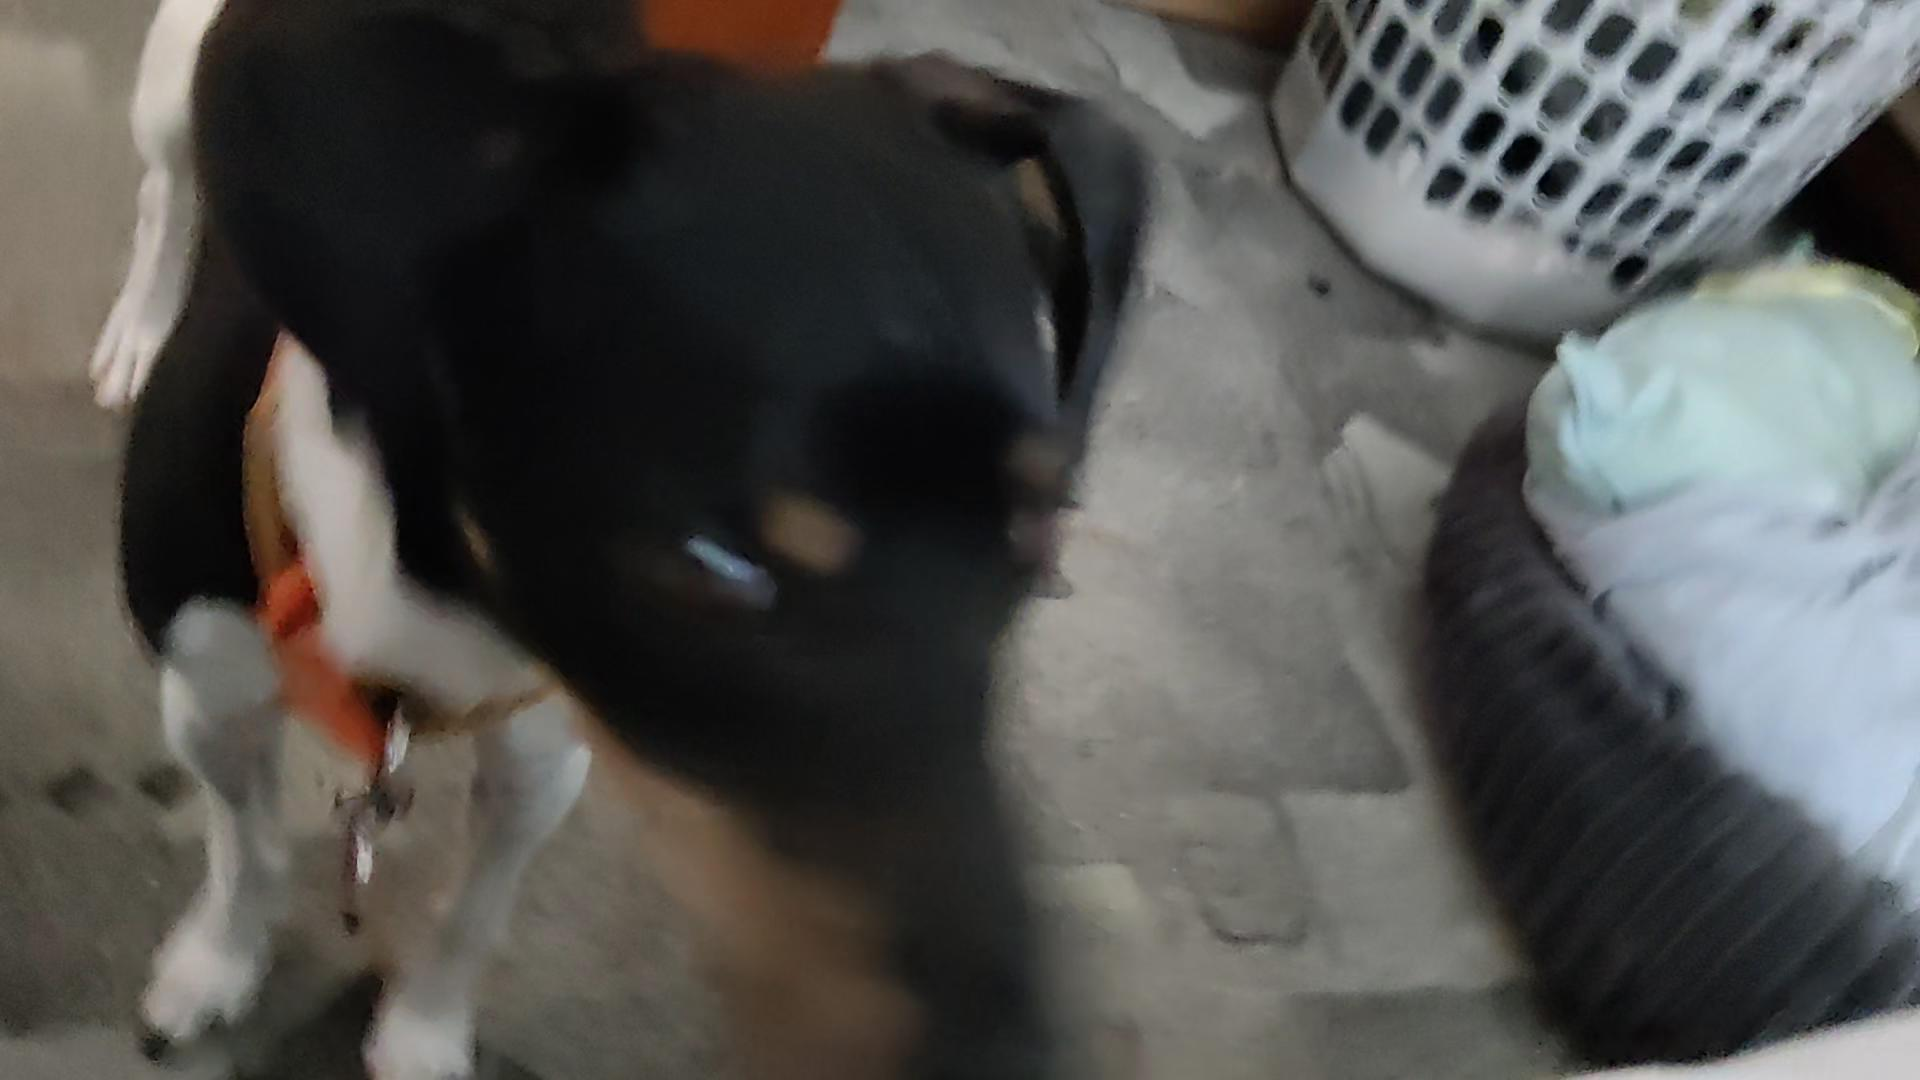Dog: (65, 0, 1191, 1080)
